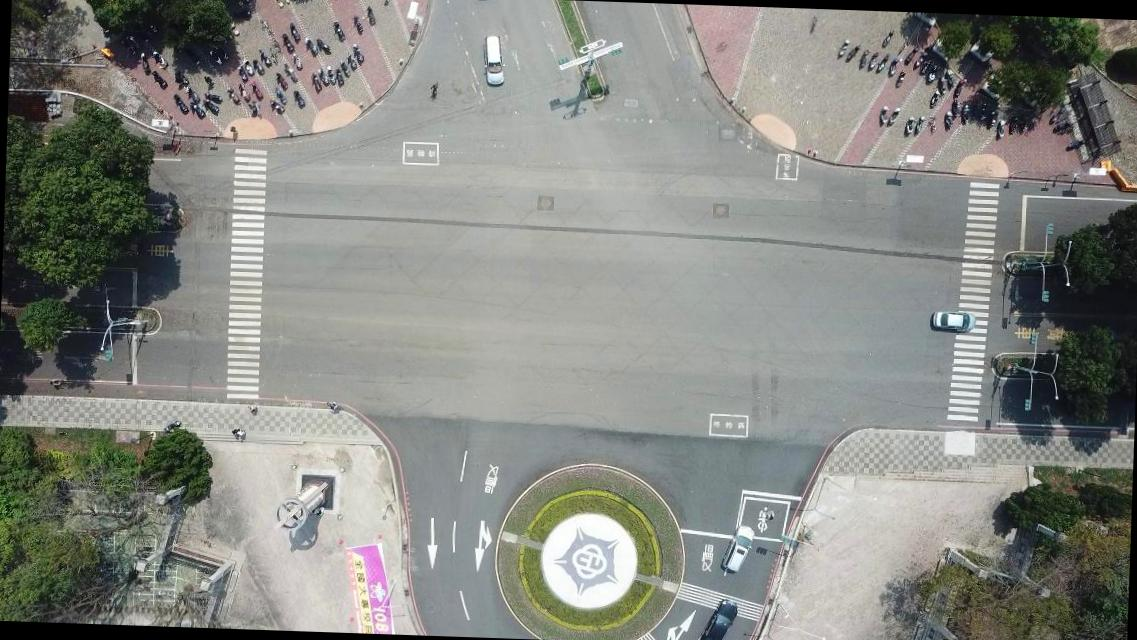vehicle: (693, 598, 739, 639), (719, 522, 755, 574), (480, 34, 506, 88), (928, 311, 976, 334)
